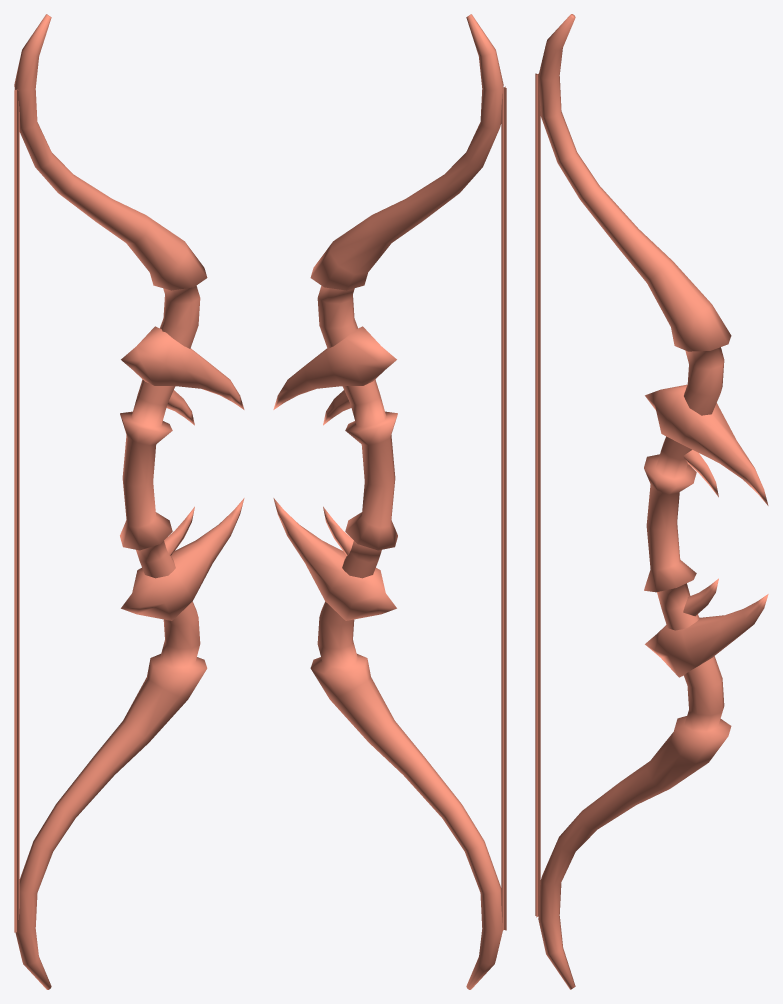
The model's file is yay.fbx.
The picture shows the model from 3 angles, left to right: view 1: azimuth 30°, elevation 25°; view 2: azimuth 150°, elevation 25°; view 3: azimuth 330°, elevation 25°; orthographic projection.
Visible parts, largest first — view 1: arco; view 2: arco; view 3: arco.
Part boxes in pixels (x1,y1,x2,y2): arco: [14, 14, 244, 989]; arco: [273, 14, 506, 989]; arco: [535, 14, 768, 989].
Bounding box in the file's own units: 770 × 3094 × 170.
